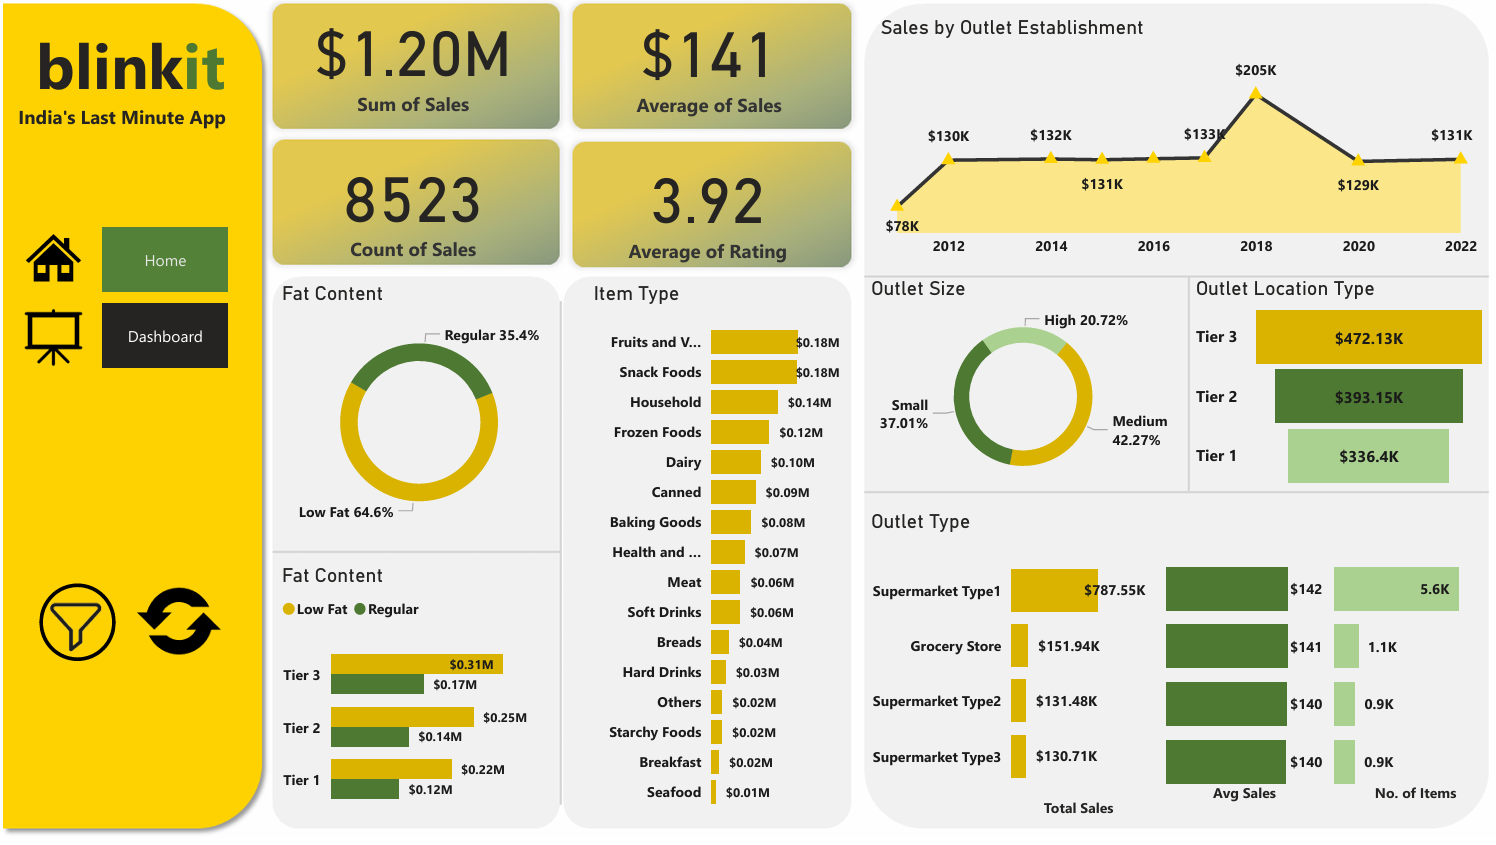

This screenshot's page, from the dashboard's own definition file:
{"tool":"powerbi","page":{"name":"Dashboard","canvas":[1280,720],"ordinal":1},"visuals":[{"type":"pageNavigator","box":[84.5,199,107.1,121.4],"z":0,"group":"g1"},{"type":"barChart","title":"Item Type","fields":{"Category":["BlinkIT Grocery Data.Item Type"],"Y":["Sum(BlinkIT Grocery Data.Sales)"]},"box":[498.8,245.2,220.2,461.9],"z":0},{"type":"shape","box":[31,502.7,64.8,66],"z":0,"group":"g2"},{"type":"card","fields":{"Values":["Avg(BlinkIT Grocery Data.Sales)"]},"box":[485.7,0,233.3,110.7],"z":1000},{"type":"image","box":[0,192.9,84.5,64.3],"z":1000,"group":"g1"},{"type":"image","box":[31,502.7,62.4,70.8],"z":1000,"group":"g2"},{"type":"donutChart","title":"Outlet Size","fields":{"Category":["BlinkIT Grocery Data.Outlet Size"],"Y":["Sum(BlinkIT Grocery Data.Sales)"]},"box":[735.9,241.3,269,185.8],"z":2000},{"type":"image","box":[0,257.2,84.5,71.4],"z":2000,"group":"g1"},{"type":"donutChart","title":"Fat Content","fields":{"Category":["BlinkIT Grocery Data.Item Fat Content"],"Y":["Sum(BlinkIT Grocery Data.Sales)"]},"box":[233.3,245.2,244,221.4],"z":3000},{"type":"clusteredBarChart","title":"Fat Content","fields":{"Series":["BlinkIT Grocery Data.Item Fat Content"],"Category":["BlinkIT Grocery Data.Outlet Location Type"],"Y":["Sum(BlinkIT Grocery Data.Sales)"]},"box":[233.3,485.7,244,226.2],"z":4000},{"type":"funnel","title":"Outlet Location Type","fields":{"Category":["BlinkIT Grocery Data.Outlet Location Type"],"Y":["Sum(BlinkIT Grocery Data.Sales)"]},"box":[1013.4,241.3,258.2,185.8],"z":5000},{"type":"lineChart","title":"Sales by Outlet Establishment","fields":{"Category":["BlinkIT Grocery Data.Outlet Establishment Year"],"Y":["Sum(BlinkIT Grocery Data.Sales)"]},"box":[744.1,17.9,519.1,215.5],"z":6000},{"type":"barChart","title":"Outlet Type","fields":{"Category":["BlinkIT Grocery Data.Outlet Type"],"Y":["Sum(BlinkIT Grocery Data.Sales)"]},"box":[735.7,440.5,244,266.7],"z":7000},{"type":"barChart","title":"Outlet Type","fields":{"Category":["BlinkIT Grocery Data.Outlet Type"],"Y":["Avg(BlinkIT Grocery Data.Sales)"]},"box":[988.1,476.2,142.9,217.9],"z":8000},{"type":"barChart","title":"Outlet Type","fields":{"Category":["BlinkIT Grocery Data.Outlet Type"],"Y":["CountNonNull(BlinkIT Grocery Data.Item Identifier)"]},"box":[1131,476.2,148.8,217.9],"z":9000},{"type":"card","fields":{"Values":["Sum(BlinkIT Grocery Data.Sales)"]},"box":[233,0,234.2,110.4],"z":10000},{"type":"card","fields":{"Values":["Avg(BlinkIT Grocery Data.Rating)"]},"box":[484.4,125.1,234.2,110.4],"z":11000},{"type":"card","fields":{"Values":["CountNonNull(BlinkIT Grocery Data.Sales)"]},"box":[233,123.9,234.2,110.4],"z":12000},{"type":"textbox","box":[8.3,17.9,201.2,104.8],"z":13000},{"type":"group","id":"g1","title":"Group 1","box":[0,192.9,191.7,135.7],"z":14000},{"type":"group","id":"g2","title":"Filter Button","box":[31,502.7,64.5,70.8],"z":15000},{"type":"image","box":[108.5,485.9,83.9,98.3],"z":16500}]}

Visuals, with their boxes in screenshot pixels (x1, y1, x2, y2), scaled from the page's 1280x720 canvas onto the 1496x845 screenshot:
pageNavigator: [left=99, top=234, right=224, bottom=376]
"Item Type" barChart: [left=583, top=288, right=840, bottom=830]
shape: [left=36, top=590, right=112, bottom=667]
card - Avg(BlinkIT Grocery Data.Sales): [left=568, top=0, right=840, bottom=130]
image: [left=0, top=226, right=99, bottom=302]
image: [left=36, top=590, right=109, bottom=673]
"Outlet Size" donutChart: [left=860, top=283, right=1174, bottom=501]
image: [left=0, top=302, right=99, bottom=386]
"Fat Content" donutChart: [left=273, top=288, right=558, bottom=548]
"Fat Content" clusteredBarChart: [left=273, top=570, right=558, bottom=835]
"Outlet Location Type" funnel: [left=1184, top=283, right=1486, bottom=501]
"Sales by Outlet Establishment" lineChart: [left=870, top=21, right=1476, bottom=274]
"Outlet Type" barChart: [left=860, top=517, right=1145, bottom=830]
"Outlet Type" barChart: [left=1155, top=559, right=1322, bottom=815]
"Outlet Type" barChart: [left=1322, top=559, right=1495, bottom=815]
card - Sum(BlinkIT Grocery Data.Sales): [left=272, top=0, right=546, bottom=130]
card - Avg(BlinkIT Grocery Data.Rating): [left=566, top=147, right=840, bottom=276]
card - CountNonNull(BlinkIT Grocery Data.Sales): [left=272, top=145, right=546, bottom=275]
textbox: [left=10, top=21, right=245, bottom=144]
"Group 1" group: [left=0, top=226, right=224, bottom=386]
"Filter Button" group: [left=36, top=590, right=112, bottom=673]
image: [left=127, top=570, right=225, bottom=686]
